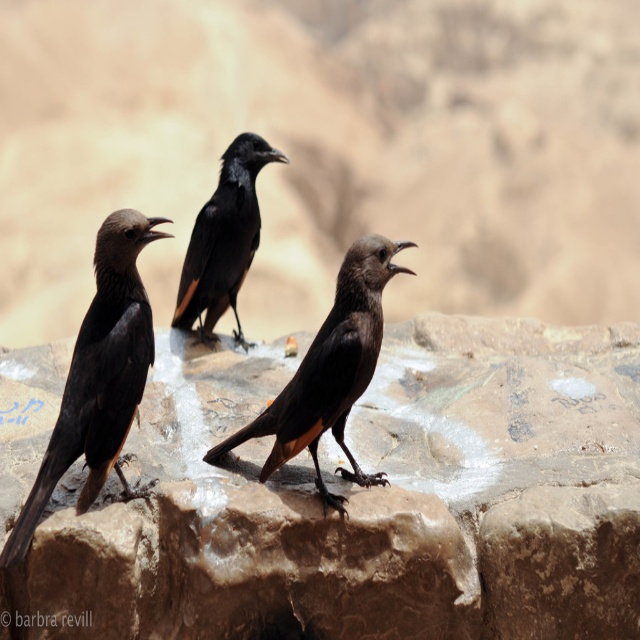Raven: (0, 203, 176, 567), (202, 234, 419, 521), (171, 132, 291, 353)
